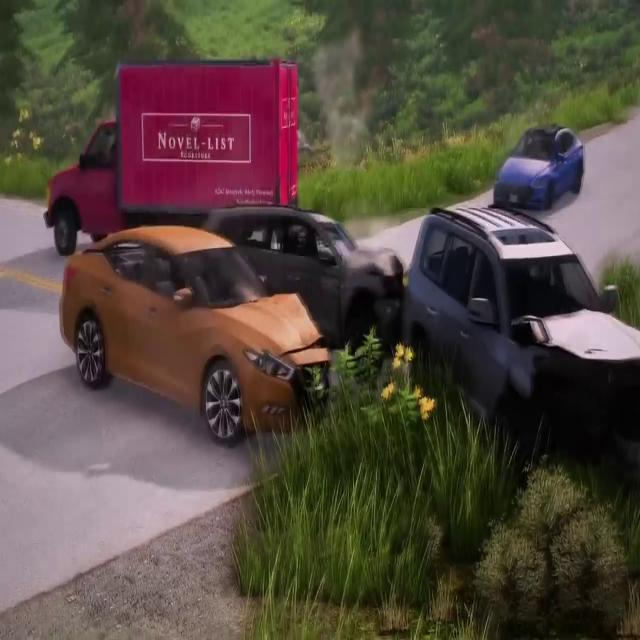accident: (319, 196, 599, 452)
